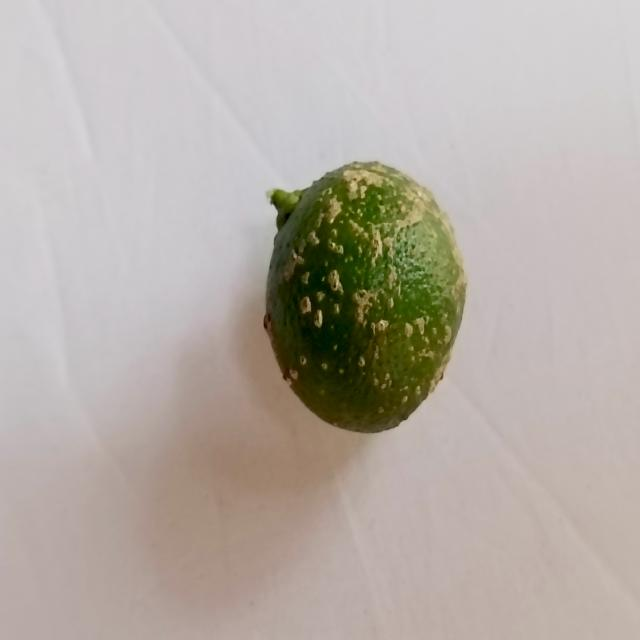scab: (268, 156, 463, 446)
